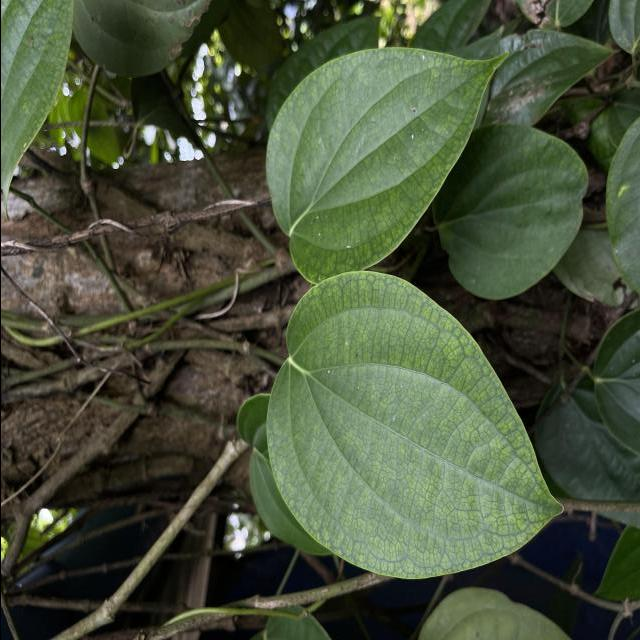Piper nigrum: (263, 269, 564, 581), (263, 45, 509, 288)
